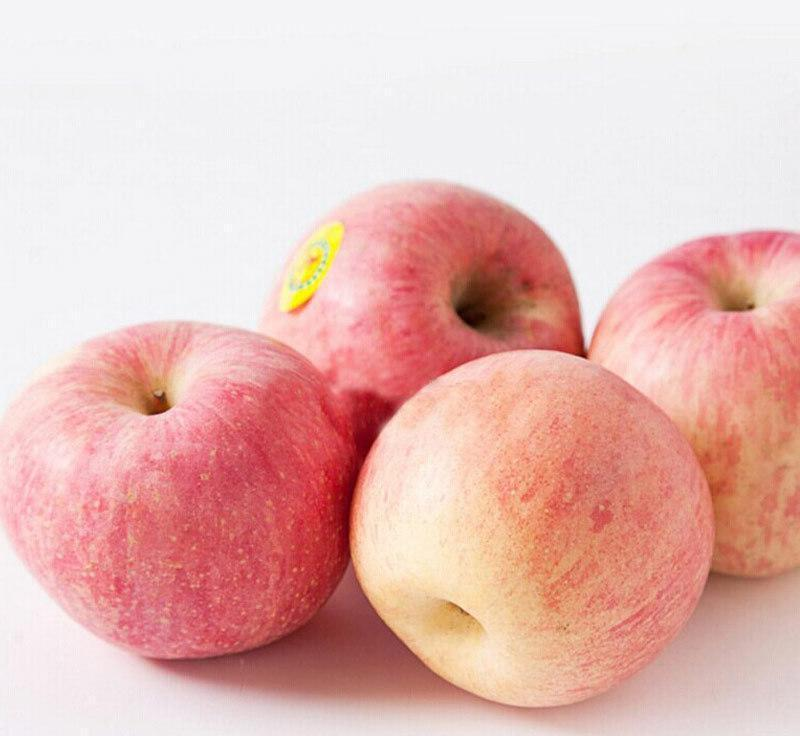apple: (226, 216, 789, 678), (14, 239, 621, 664), (348, 349, 719, 706), (5, 320, 354, 660), (263, 175, 597, 457), (578, 235, 798, 585)
